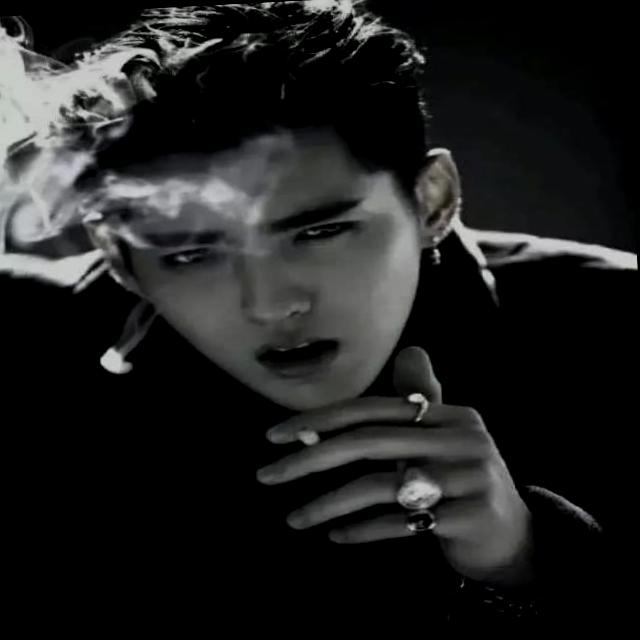smoke: (294, 426, 321, 445)
